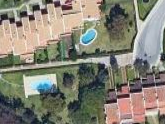pool: (30, 80, 54, 89), (83, 29, 96, 45)
